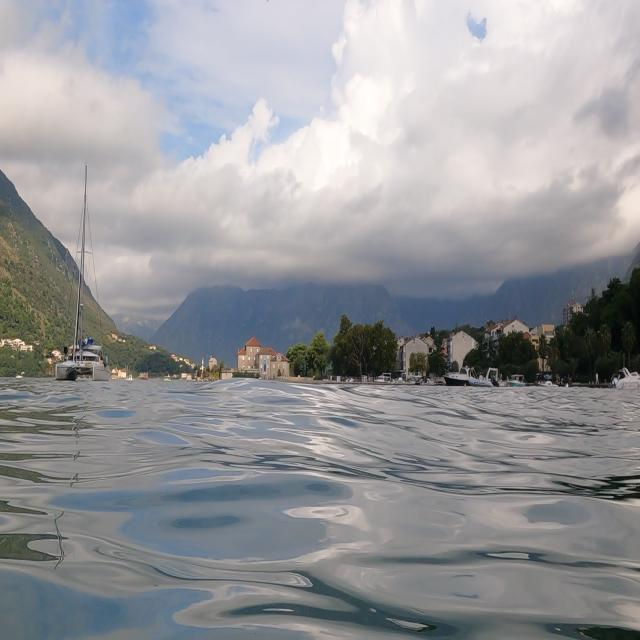boat: (53, 159, 112, 384)
